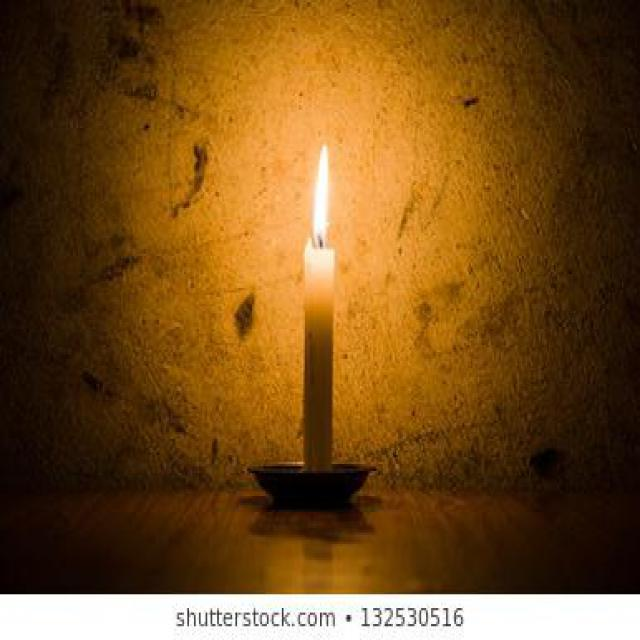Fire: (314, 144, 329, 245)
